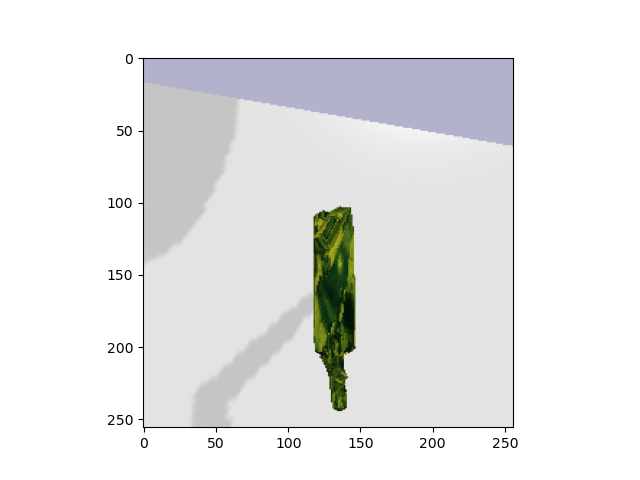v249b387_108: (302, 197, 372, 418)
